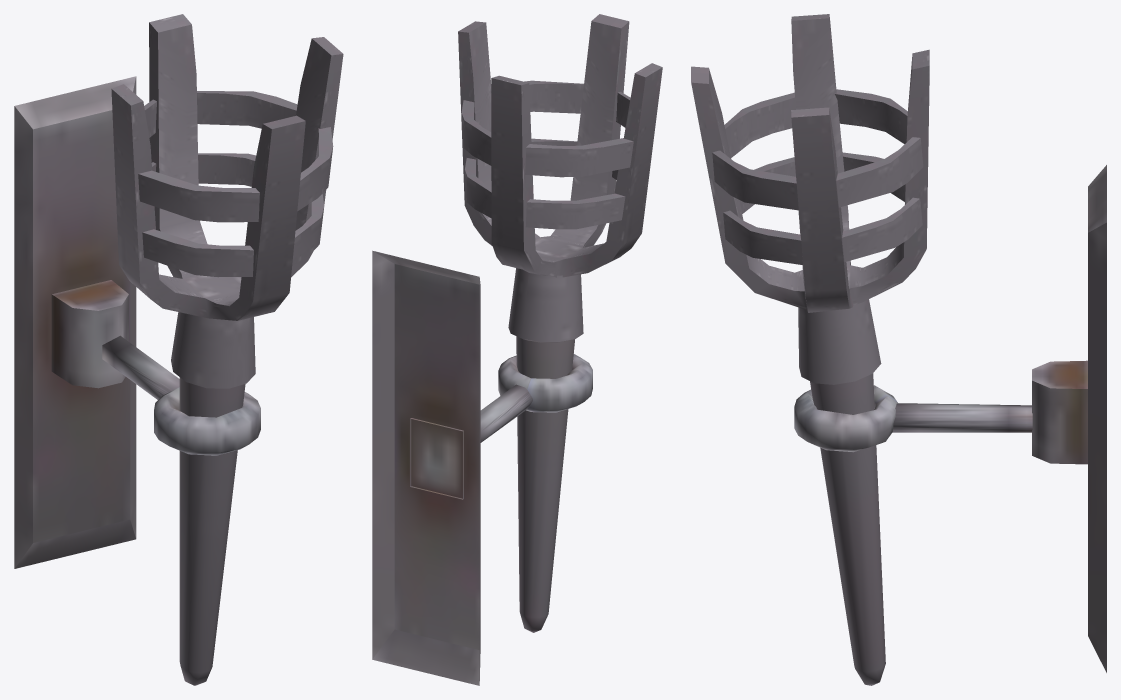
Rendered from Torch_Metal.gltf.
The picture shows the model from 3 angles, left to right: view 1: azimuth 30°, elevation 25°; view 2: azimuth 150°, elevation 25°; view 3: azimuth 270°, elevation 25°; orthographic projection. The views are drawn at different scales.
Parts seen in each view (by area): view 1: Torch_Metal; view 2: Torch_Metal; view 3: Torch_Metal.
Part boxes in pixels (x1=…): Torch_Metal: x1=14, y1=14, x2=343, y2=685; Torch_Metal: x1=372, y1=14, x2=662, y2=685; Torch_Metal: x1=691, y1=14, x2=1106, y2=685.
Bounding box in the file's own units: 0.2231 × 0.6482 × 0.3884.
Materials: 1 (1 with a texture image).
